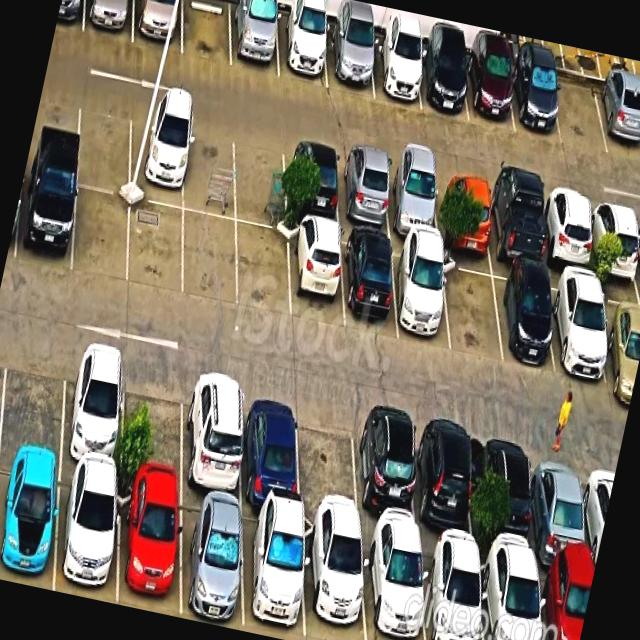car: (103, 492, 189, 614), (170, 506, 254, 628), (232, 518, 314, 640), (164, 398, 250, 513), (44, 483, 124, 601), (49, 374, 132, 486), (342, 425, 422, 538), (294, 535, 378, 640), (231, 414, 306, 530), (465, 441, 539, 555), (402, 436, 477, 545), (547, 279, 620, 389), (355, 544, 437, 640), (520, 461, 594, 567), (0, 468, 65, 588), (388, 246, 460, 350), (492, 268, 564, 372), (121, 104, 196, 200), (483, 178, 552, 281), (337, 232, 405, 335), (432, 161, 499, 264), (278, 225, 349, 320), (416, 555, 494, 640), (274, 137, 346, 229), (532, 192, 598, 292), (368, 8, 431, 108), (413, 22, 478, 118), (471, 567, 556, 640), (13, 178, 81, 269), (508, 38, 569, 138), (581, 199, 640, 300), (322, 0, 385, 94), (462, 33, 524, 128), (379, 158, 442, 248), (223, 0, 290, 79), (273, 0, 336, 84), (333, 150, 394, 234), (592, 55, 640, 149), (128, 0, 190, 47), (81, 0, 141, 39)
free: (0, 351, 74, 472), (111, 384, 190, 496), (284, 424, 366, 530), (435, 264, 510, 360), (178, 119, 245, 219), (65, 190, 137, 282), (120, 196, 190, 290), (231, 130, 298, 224), (66, 105, 136, 194), (226, 220, 294, 310), (548, 56, 612, 146), (175, 210, 241, 294), (175, 0, 243, 67)
